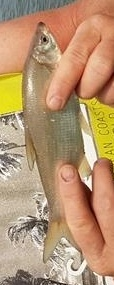Vimba vimba: (20, 20, 94, 265)
